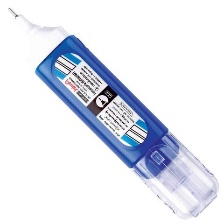correction_fluid: (6, 3, 221, 221)
